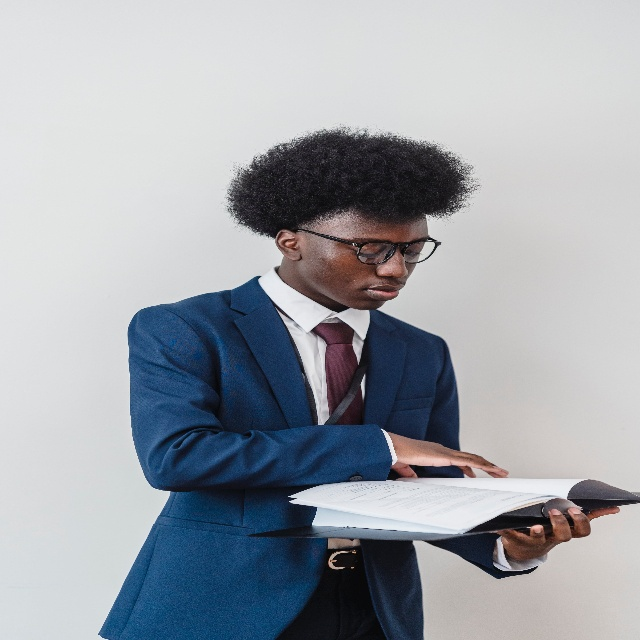Gafas: (294, 228, 441, 266)
Sin_guantes: (495, 505, 619, 563), (386, 431, 509, 478)
